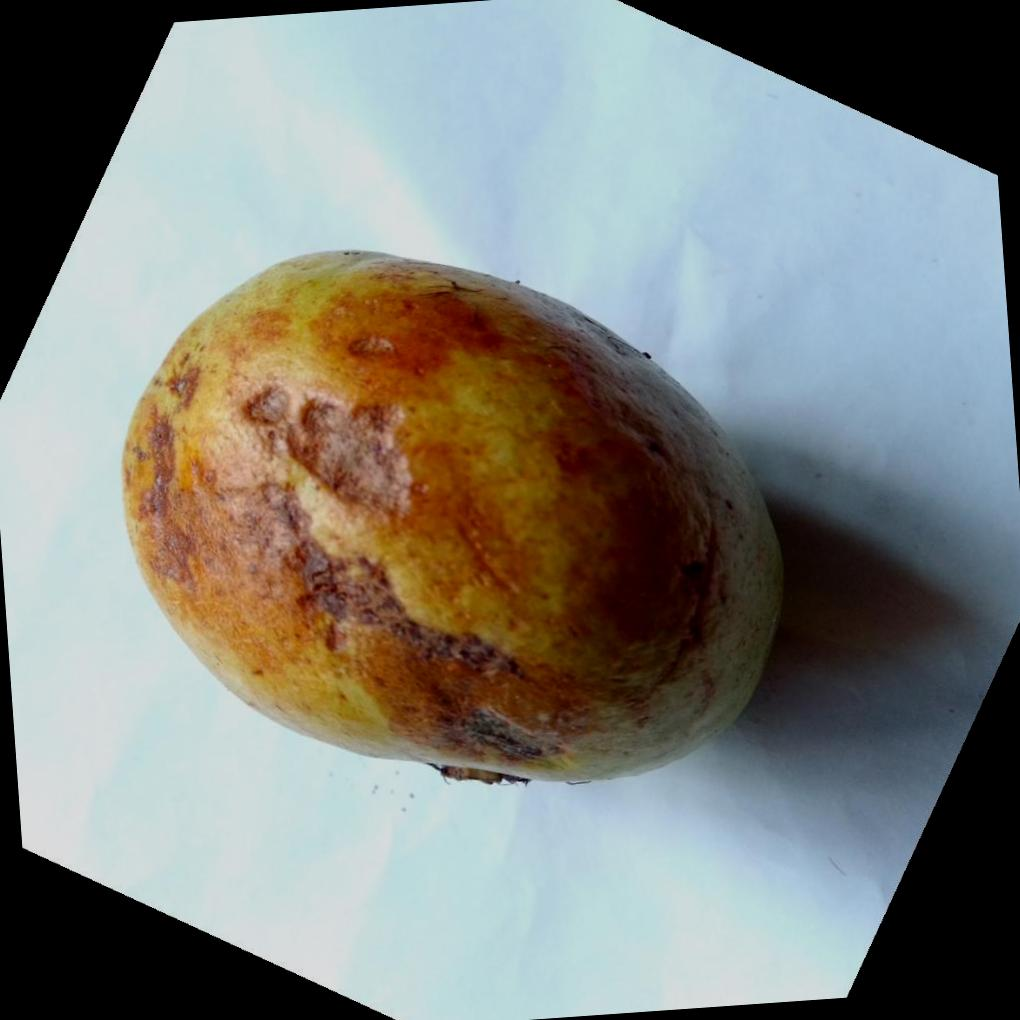FreshOrange: (119, 251, 786, 788)
